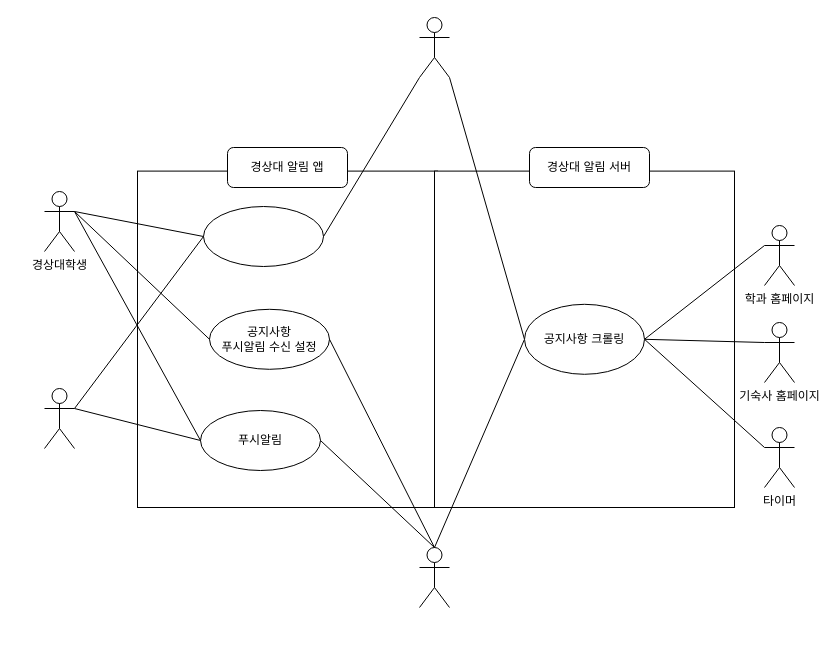
This 837x661 diagram has some shape labels left out. The centre of each missing label's shape, as x and y in pixels:
"공지사항 열람" goes at [263,236].
"데이터베이스 서버 (파이어베이스)" goes at [434,47].
"브라우저앱 (사파리, 크롬 등)" goes at [59,418].
"푸시 알림 서버 (원시그널)" goes at [434,577].
